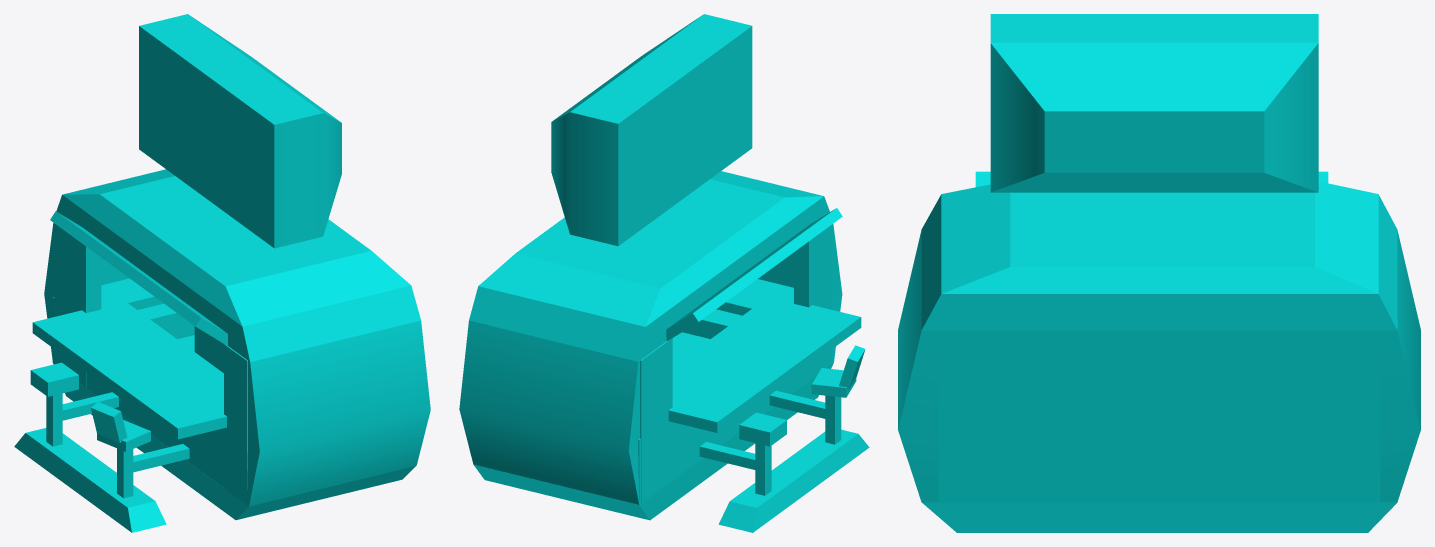
Rendered from SM_Veh_Food_Trailer_01_Collision.fbx.
3 renders of one model, left to right at view 1: azimuth 30°, elevation 25°; view 2: azimuth 150°, elevation 25°; view 3: azimuth 270°, elevation 25°, orthographic. The views are drawn at different scales.
Parts seen in each view (by area): view 1: SM_Veh_Food_Trailer_01_Collision; view 2: SM_Veh_Food_Trailer_01_Collision; view 3: SM_Veh_Food_Trailer_01_Collision.
Boxes of the visible parts, x1=… form: SM_Veh_Food_Trailer_01_Collision: x1=14, y1=14, x2=430, y2=532; SM_Veh_Food_Trailer_01_Collision: x1=459, y1=14, x2=869, y2=532; SM_Veh_Food_Trailer_01_Collision: x1=898, y1=14, x2=1420, y2=532.
Size of the model in its own units: 386 by 539 by 547.
